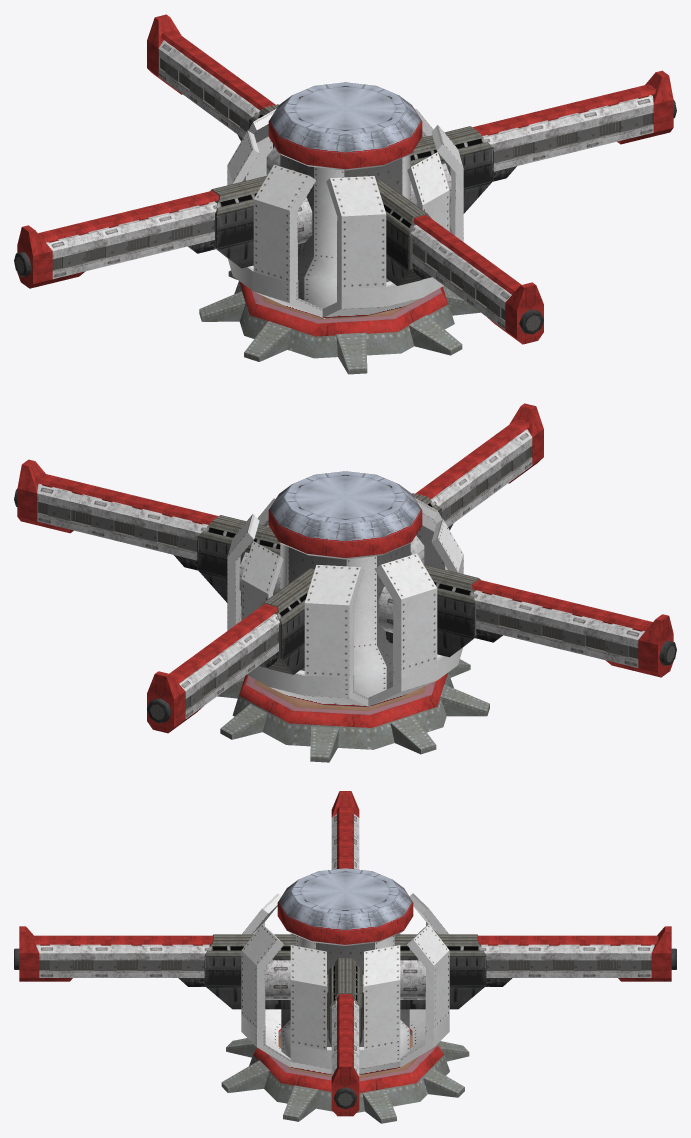
File: Ob_BigCannon_RC.fbx
3 views of the same model, one above another, from view 1: azimuth 30°, elevation 25°; view 2: azimuth 150°, elevation 25°; view 3: azimuth 270°, elevation 25° (orthographic). The views are drawn at different scales.
Parts seen in each view (by area): view 1: Ob_BigCannon_RC; view 2: Ob_BigCannon_RC; view 3: Ob_BigCannon_RC.
Boxes of the visible parts, left/top/right/bottom form: Ob_BigCannon_RC: left=14, top=14, right=676, bottom=374; Ob_BigCannon_RC: left=14, top=403, right=676, bottom=762; Ob_BigCannon_RC: left=14, top=791, right=676, bottom=1123.
Size of the model in its own units: 172271 by 51673 by 172271.
